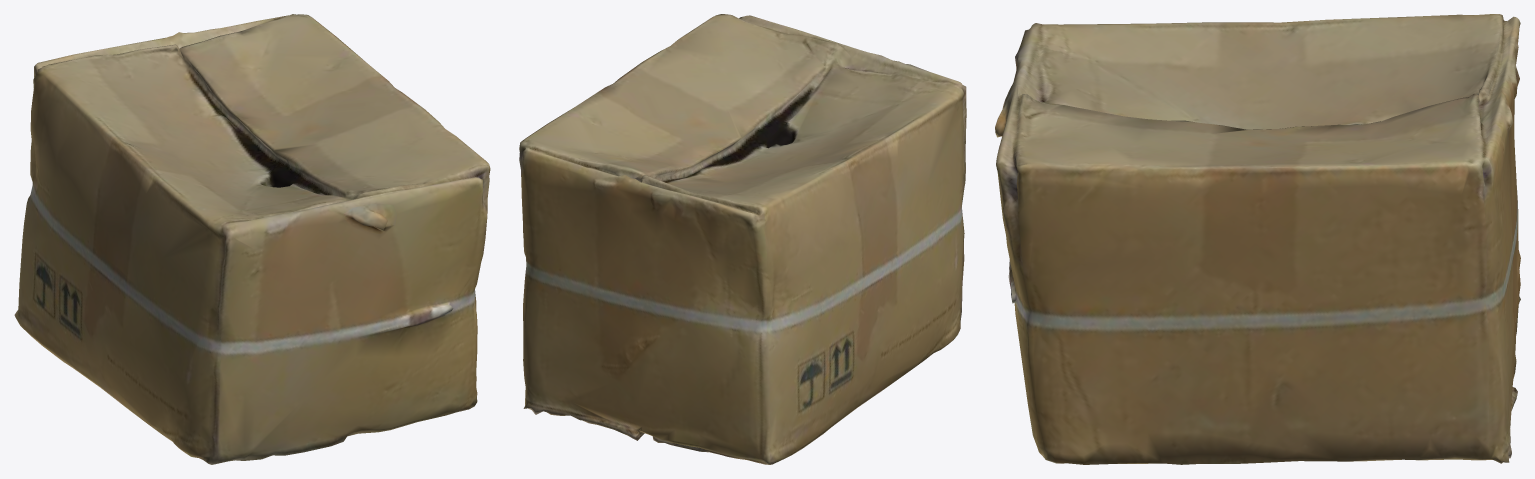
The picture shows the model from 3 angles, left to right: view 1: azimuth 30°, elevation 25°; view 2: azimuth 150°, elevation 25°; view 3: azimuth 270°, elevation 25°; orthographic projection. The views are drawn at different scales.
Visible parts, largest first — view 1: cardboard_box_01; view 2: cardboard_box_01; view 3: cardboard_box_01.
Part boxes in pixels (x1=…): cardboard_box_01: x1=14, y1=14, x2=490, y2=464; cardboard_box_01: x1=519, y1=14, x2=966, y2=464; cardboard_box_01: x1=995, y1=14, x2=1520, y2=464.
Size of the model in its own units: 0.3869 by 0.3418 by 0.5159.
1 material, 1 textured.
